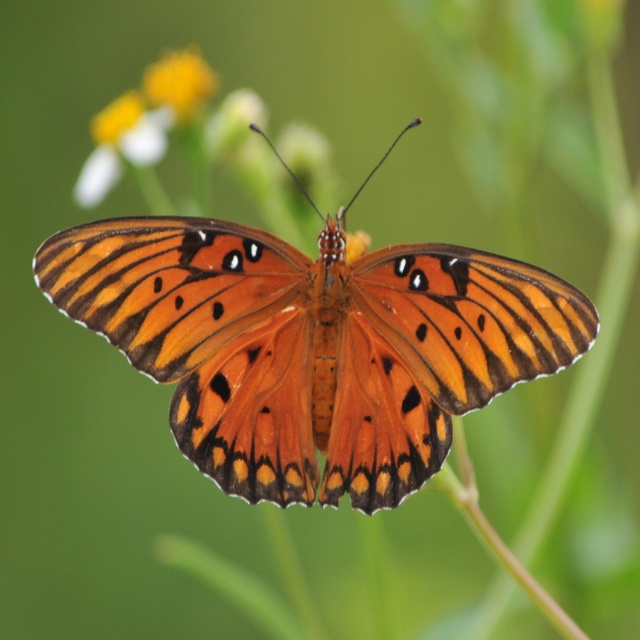Moths and butterflies: (32, 114, 602, 520)
